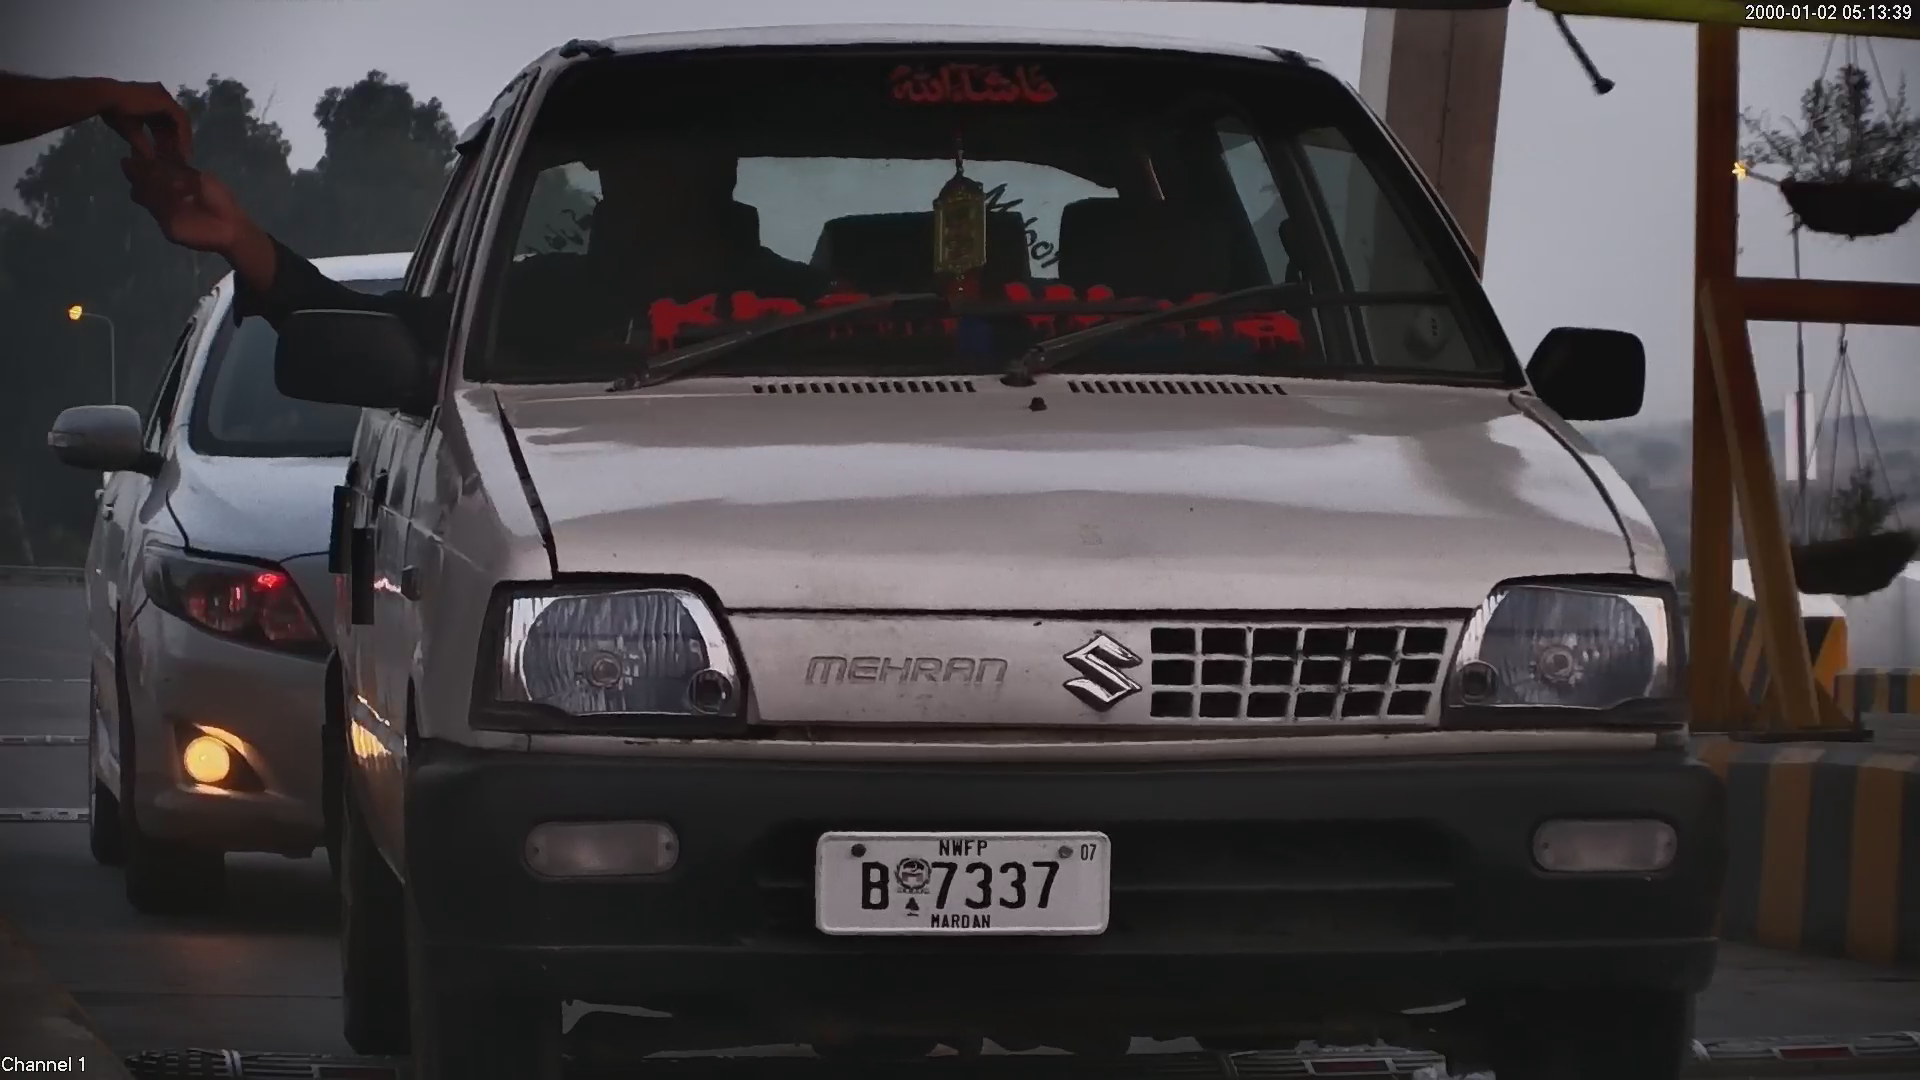Number_Plate: (805, 816, 1124, 951)
